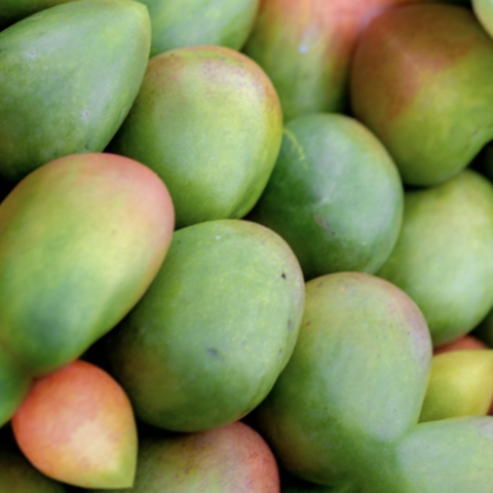mango: (54, 164, 367, 476), (187, 224, 490, 493), (0, 96, 230, 402), (214, 60, 469, 316)
